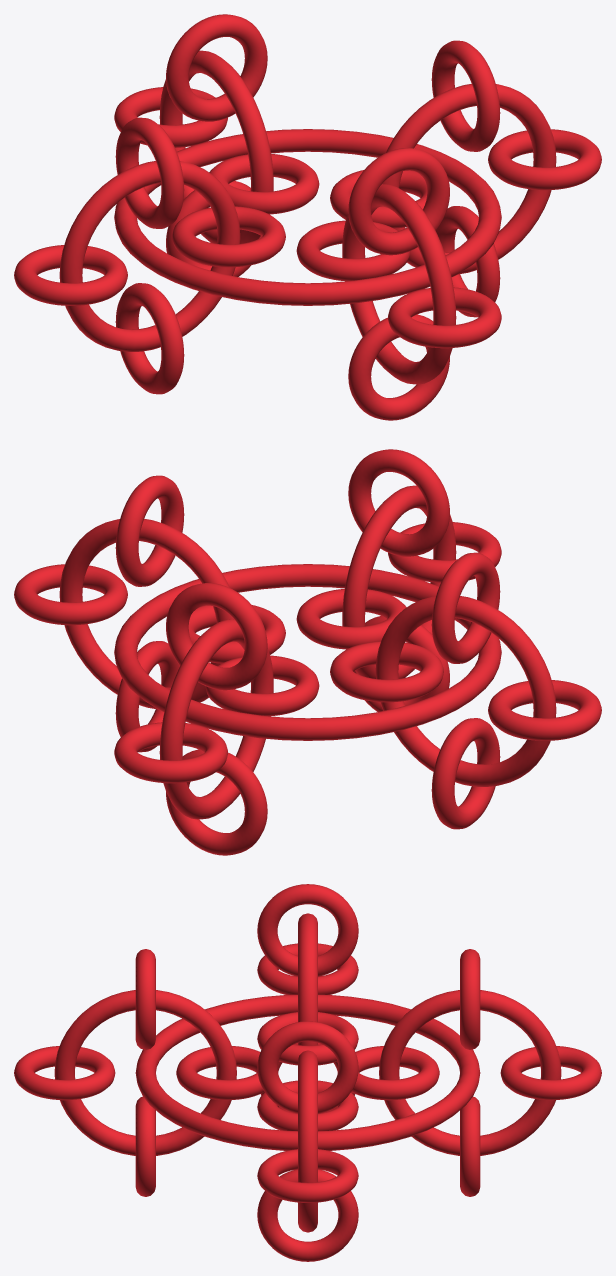
File: rings.gltf
3 renders of one model, top to bottom at view 1: azimuth 30°, elevation 25°; view 2: azimuth 150°, elevation 25°; view 3: azimuth 270°, elevation 25°, orthographic. The views are drawn at different scales.
Visible parts, largest first — view 1: ring-big, ring-med-2, ring-med-4, ring-med-1, ring-small-14, ring-small-7, ring-med-3, ring-small-12, ring-small-3, ring-small-11, ring-small-6, ring-small-9 (+9 smaller); view 2: ring-big, ring-med-2, ring-med-3, ring-med-1, ring-small-7, ring-small-14, ring-med-4, ring-small-12, ring-small-3, ring-small-11, ring-small-16, ring-small-9 (+9 smaller); view 3: ring-big, ring-med-3, ring-med-4, ring-small-3, ring-small-11, ring-small-4, ring-small-1, ring-small-16, ring-small-6, ring-med-1, ring-small-13, ring-small-5 (+8 smaller).
Part boxes in pixels (x1,y1,x2,y2): ring-big: [114, 129, 501, 305]; ring-med-2: [59, 161, 240, 351]; ring-med-4: [342, 184, 456, 384]; ring-med-1: [382, 84, 556, 274]; ring-small-14: [166, 14, 267, 121]; ring-small-7: [348, 148, 449, 255]; ring-med-3: [159, 50, 273, 243]; ring-small-12: [115, 283, 184, 394]; ring-small-3: [431, 40, 500, 151]; ring-small-11: [115, 117, 184, 228]; ring-small-6: [388, 287, 501, 348]; ring-small-9: [172, 206, 285, 267]; ring-big: [114, 564, 501, 740]; ring-med-2: [375, 596, 556, 786]; ring-med-3: [159, 619, 273, 819]; ring-med-1: [59, 519, 233, 709]; ring-small-7: [348, 449, 449, 556]; ring-small-14: [166, 583, 267, 690]; ring-med-4: [342, 485, 456, 678]; ring-small-12: [431, 718, 500, 829]; ring-small-3: [115, 475, 184, 586]; ring-small-11: [431, 552, 500, 663]; ring-small-16: [114, 722, 227, 783]; ring-small-9: [330, 641, 443, 702]; ring-big: [135, 994, 480, 1150]; ring-med-3: [379, 990, 561, 1155]; ring-med-4: [54, 990, 236, 1155]; ring-small-3: [257, 1021, 358, 1113]; ring-small-11: [257, 884, 358, 976]; ring-small-4: [257, 1169, 358, 1261]; ring-small-1: [257, 1149, 358, 1202]; ring-small-16: [500, 1046, 601, 1100]; ring-small-6: [14, 1046, 115, 1100]; ring-med-1: [298, 1050, 317, 1232]; ring-small-13: [351, 1046, 439, 1100]; ring-small-5: [176, 1046, 264, 1100].
Size of the model in its own units: 14.5 by 6.5 by 14.5.
